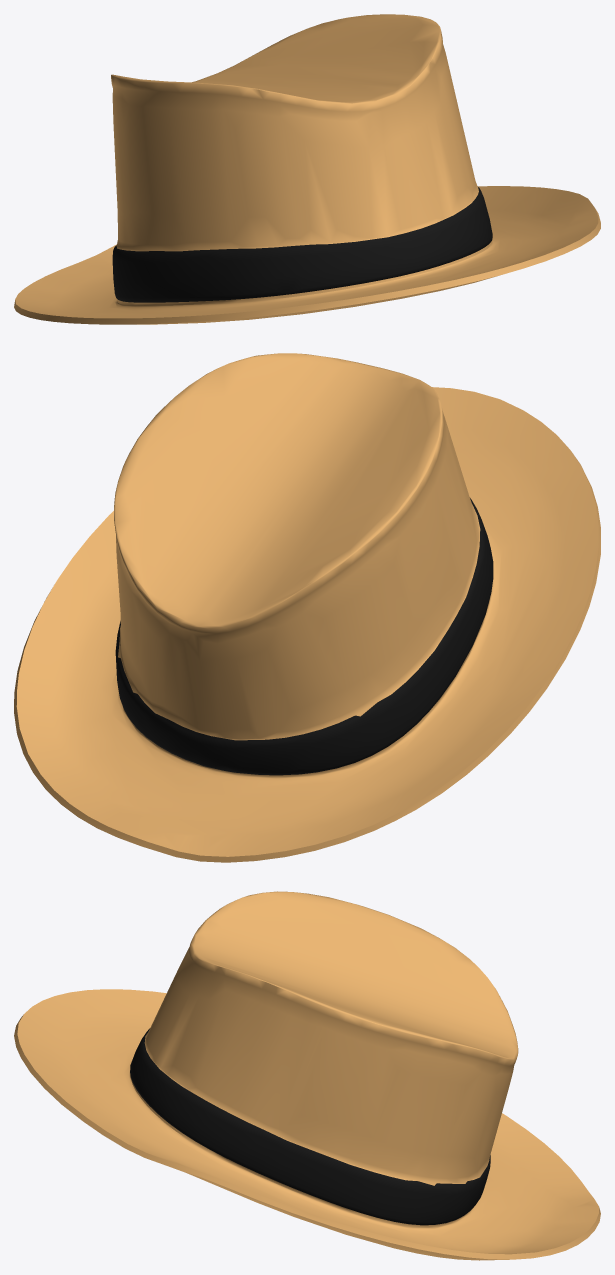
File: headwear-hat-yellow-4aa89dbf.glb
The picture shows the model from 3 angles, top to bottom: view 1: azimuth 30°, elevation 25°; view 2: azimuth 150°, elevation 25°; view 3: azimuth 270°, elevation 25°; orthographic projection. The views are drawn at different scales.
Visible parts, largest first — view 1: Geo_White_Old_Male_Hat_Yellow.001; view 2: Geo_White_Old_Male_Hat_Yellow.001; view 3: Geo_White_Old_Male_Hat_Yellow.001.
Boxes of the visible parts, box(x1,y1,x2,y2) form: Geo_White_Old_Male_Hat_Yellow.001: box(14, 14, 600, 324); Geo_White_Old_Male_Hat_Yellow.001: box(14, 353, 600, 862); Geo_White_Old_Male_Hat_Yellow.001: box(14, 891, 600, 1260).
Size of the model in its own units: 2.43 by 1.6 by 3.
